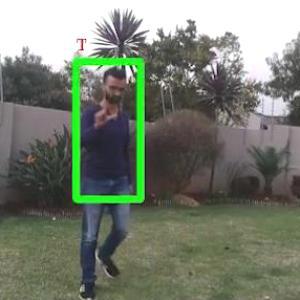land_hand: (89, 92, 114, 128)
